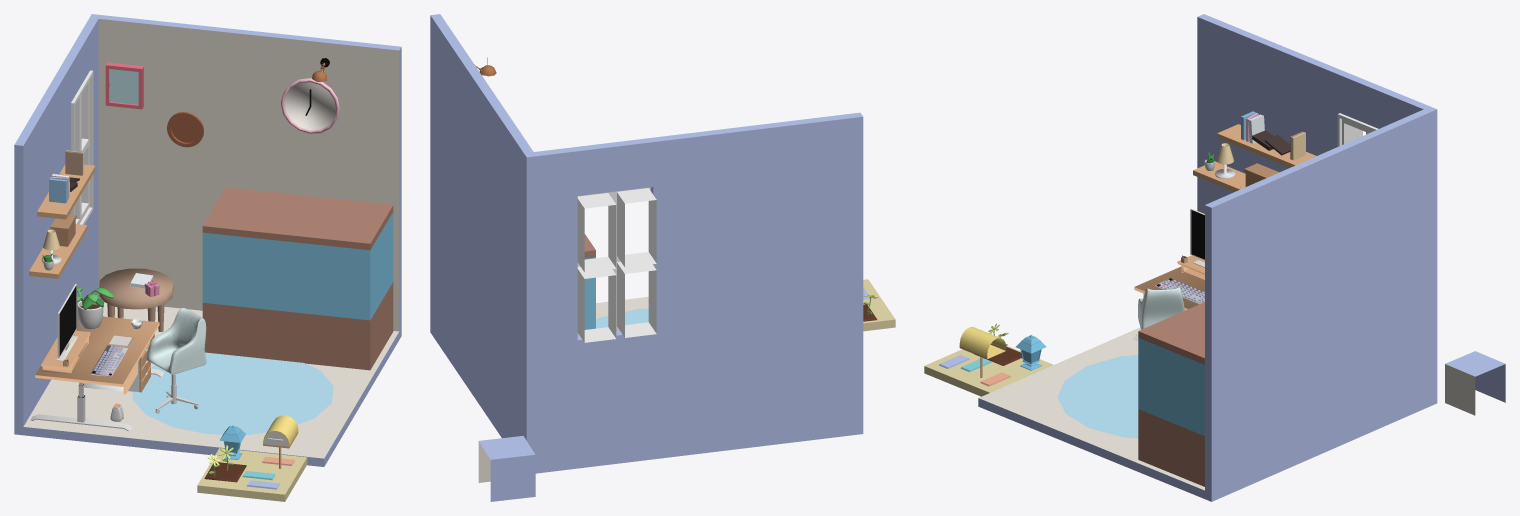
File: Finale Version2.glb
The picture shows the model from 3 angles, left to right: view 1: azimuth 30°, elevation 25°; view 2: azimuth 150°, elevation 25°; view 3: azimuth 270°, elevation 25°; orthographic projection. The views are drawn at different scales.
Parts seen in each view (by area): view 1: body, tank, flooritems, desk, wallint1, tableset, minifloor, walli2, computer, mailbox, dirt, Lamp; view 2: body, Cube, minifloor, tank; view 3: body, tank, flooritems, wallint1, Cube, minifloor, mailbox, tableset, desk, computer, Lamp.
Boxes of the visible parts, left/top/right/bottom form: body: left=14, top=14, right=401, bottom=466; tank: left=202, top=187, right=393, bottom=370; flooritems: left=110, top=308, right=333, bottom=434; desk: left=30, top=268, right=173, bottom=430; wallint1: left=29, top=62, right=203, bottom=278; tableset: left=41, top=273, right=159, bottom=376; minifloor: left=197, top=448, right=307, bottom=501; walli2: left=281, top=58, right=339, bottom=133; computer: left=56, top=284, right=77, bottom=361; mailbox: left=263, top=415, right=298, bottom=468; dirt: left=204, top=462, right=246, bottom=482; Lamp: left=220, top=425, right=245, bottom=459; body: left=430, top=14, right=863, bottom=473; Cube: left=478, top=436, right=535, bottom=501; minifloor: left=863, top=279, right=895, bottom=331; tank: left=584, top=234, right=595, bottom=329; body: left=978, top=14, right=1437, bottom=501; tank: left=1138, top=302, right=1204, bottom=486; flooritems: left=1057, top=286, right=1184, bottom=438; wallint1: left=1193, top=111, right=1316, bottom=191; Cube: left=1445, top=351, right=1505, bottom=415; minifloor: left=924, top=345, right=1053, bottom=396; mailbox: left=959, top=326, right=1006, bottom=377; tableset: left=1155, top=255, right=1204, bottom=304; desk: left=1133, top=266, right=1204, bottom=340; computer: left=1190, top=208, right=1204, bottom=267; Lamp: left=1015, top=335, right=1046, bottom=370.
Size of the model in its own units: 24 by 16.97 by 30.42.
